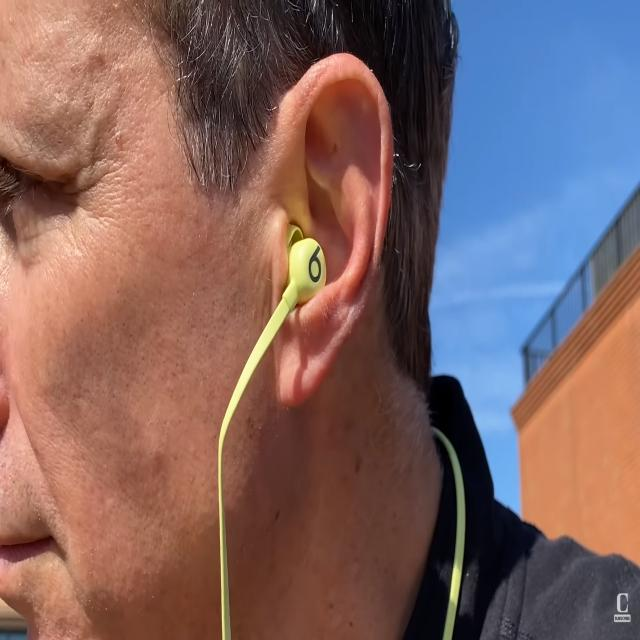Neckband: (217, 224, 467, 640)
